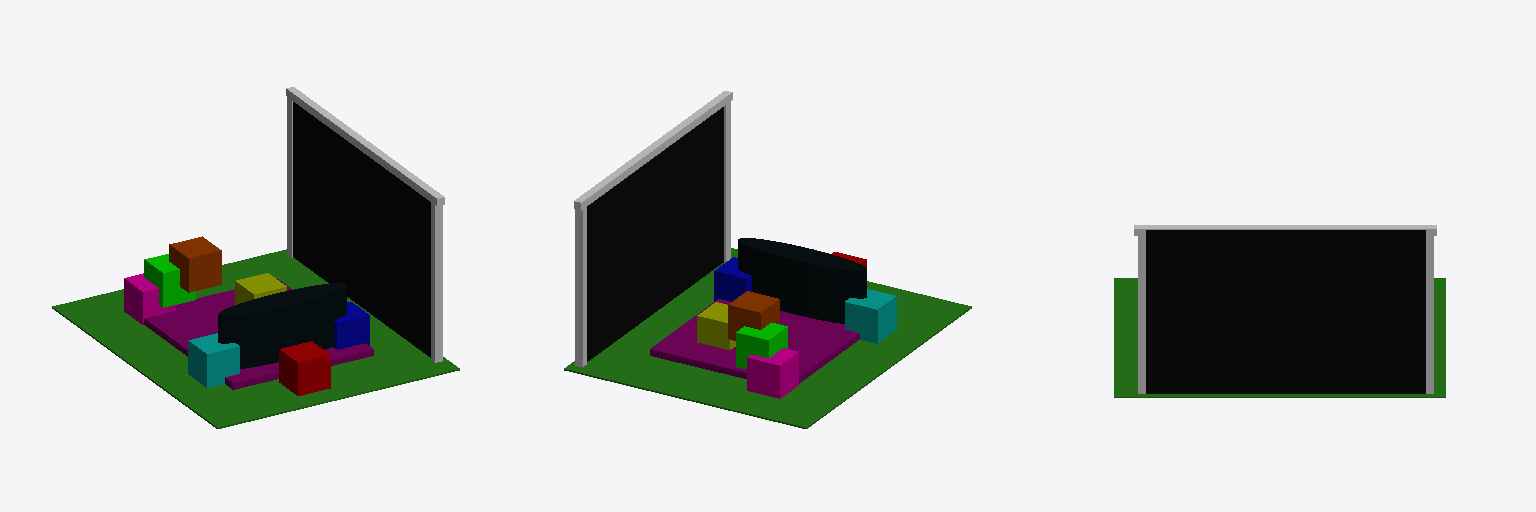
File: newSimpleScene2.obj
3 views of the same model, side by side, from view 1: azimuth 30°, elevation 25°; view 2: azimuth 150°, elevation 25°; view 3: azimuth 270°, elevation 25° (orthographic).
Visible parts, largest first — view 1: Cube_Cube.001, Object.01_Object.1, Cylinder_Cylinder.002, Object.09_Object.9, Object.04_Object.4, Cube.003_Cube.004, Object.08_Object.8, Object.06_Object.6, Cube.002_Cube.003, Object.07_Object.7, Object.02_Object.2, Object.05_Object.5 (+2 smaller); view 2: Cube_Cube.001, Object.01_Object.1, Cylinder_Cylinder.002, Object.09_Object.9, Cube.003_Cube.004, Object.06_Object.6, Object.02_Object.2, Cube.001_Cube.002, Object.08_Object.8, Object.07_Object.7, Object.03_Object.3, Object.05_Object.5 (+1 smaller); view 3: Cube_Cube.001, Object.01_Object.1, Cube.003_Cube.004, Cube.002_Cube.003, Cube.001_Cube.002.
Boxes of the visible parts, <box> form: Cube_Cube.001: <box>293,102,430,357</box>; Object.01_Object.1: <box>52,249,459,428</box>; Cylinder_Cylinder.002: <box>218,283,346,368</box>; Object.09_Object.9: <box>144,279,373,389</box>; Object.04_Object.4: <box>279,341,330,395</box>; Cube.003_Cube.004: <box>286,87,444,206</box>; Object.08_Object.8: <box>169,236,221,292</box>; Object.06_Object.6: <box>188,333,239,387</box>; Cube.002_Cube.003: <box>431,203,442,362</box>; Object.07_Object.7: <box>144,254,195,307</box>; Object.02_Object.2: <box>124,273,175,324</box>; Object.05_Object.5: <box>334,302,369,349</box>; Cube_Cube.001: <box>587,107,723,361</box>; Object.01_Object.1: <box>564,248,971,428</box>; Cylinder_Cylinder.002: <box>738,238,866,323</box>; Object.09_Object.9: <box>650,299,859,383</box>; Cube.003_Cube.004: <box>574,91,732,210</box>; Object.06_Object.6: <box>845,289,896,343</box>; Object.02_Object.2: <box>747,348,798,398</box>; Cube.001_Cube.002: <box>575,203,586,367</box>; Object.08_Object.8: <box>728,291,779,340</box>; Object.07_Object.7: <box>736,323,787,368</box>; Object.03_Object.3: <box>697,302,735,349</box>; Object.05_Object.5: <box>714,257,751,301</box>; Cube_Cube.001: <box>1146,230,1425,393</box>; Object.01_Object.1: <box>1114,278,1445,397</box>; Cube.003_Cube.004: <box>1134,225,1436,235</box>; Cube.002_Cube.003: <box>1138,232,1145,393</box>; Cube.001_Cube.002: <box>1426,232,1433,393</box>.
Bounding box in the file's own units: 3.09 × 2.05 × 3.66.